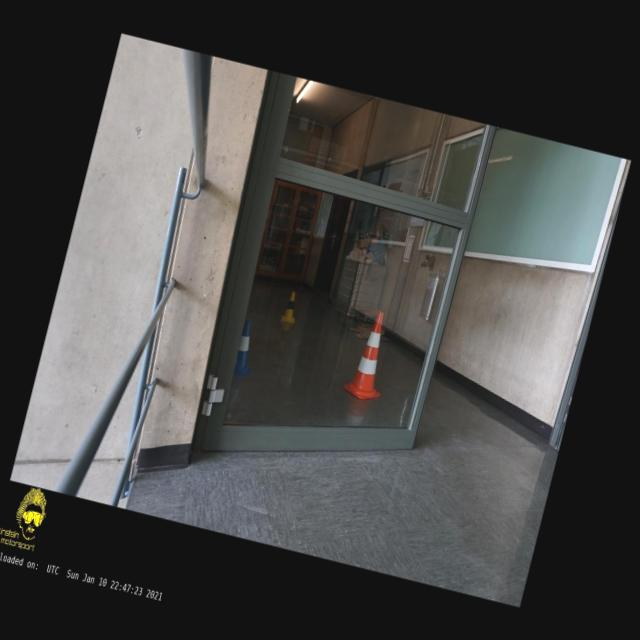blue_cone: (232, 319, 264, 380)
large_orange_cone: (340, 306, 400, 404)
yellow_cone: (280, 289, 302, 324)
